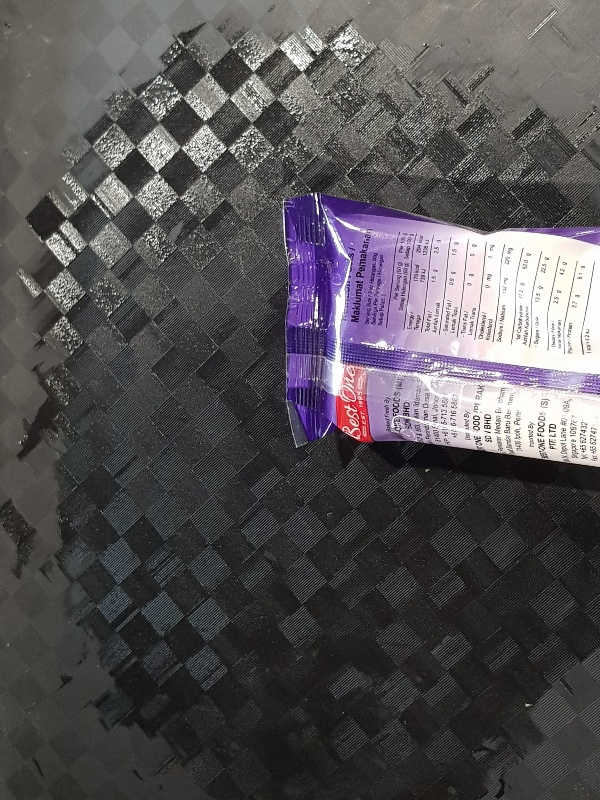Tinges Roll Chocolate: (281, 195, 600, 469)
